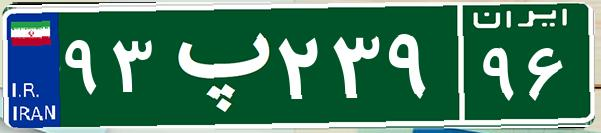2: (273, 28, 330, 110)
3: (330, 28, 385, 110), (110, 28, 158, 105)
6: (525, 38, 570, 115)
9: (385, 28, 445, 110), (57, 26, 110, 107), (475, 38, 525, 113)
پ: (158, 15, 273, 115)
